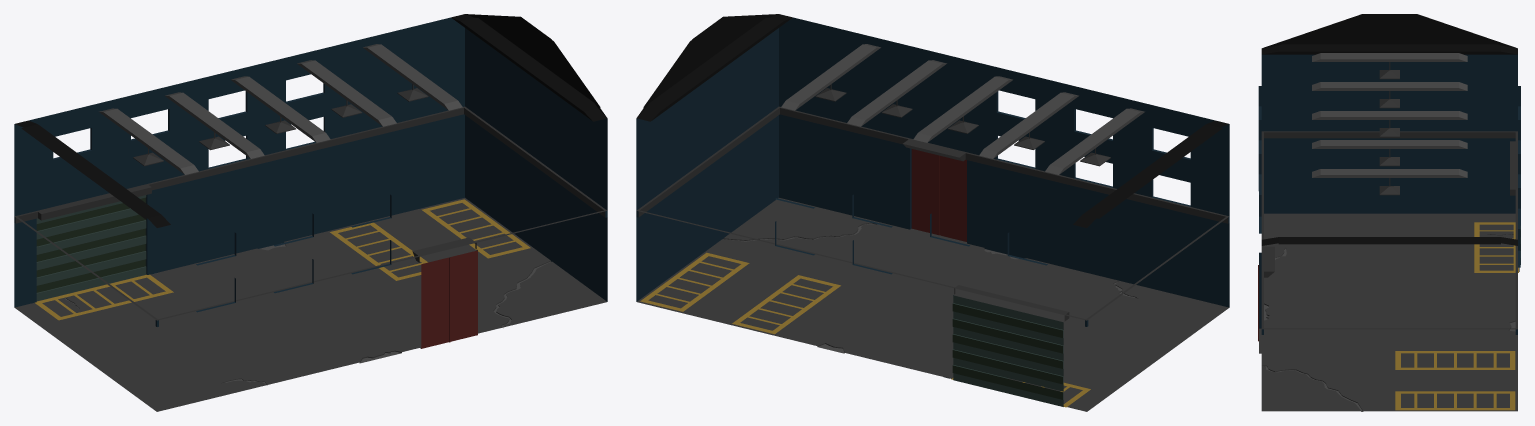
Rendered from Warehouse.fbx.
The picture shows the model from 3 angles, left to right: view 1: azimuth 30°, elevation 25°; view 2: azimuth 150°, elevation 25°; view 3: azimuth 270°, elevation 25°; orthographic projection. The views are drawn at different scales.
Parts seen in each view (by area): view 1: MainStructure, Rafter_3, Rafter_4, Rafter_5, Rafter_1, Rafter_2, Plane, Plane.001, Plane.002; view 2: MainStructure, Rafter_3, Rafter_4, Rafter_5, Rafter_1, Rafter_2, Plane.001, Plane.002; view 3: MainStructure, Rafter_1, Rafter_4, Rafter_2, Rafter_3, Rafter_5, Plane.001, Plane.002, Plane.
Part boxes in pixels (<box>): MainStructure: <box>14,14,607,411</box>; Rafter_3: <box>165,92,264,158</box>; Rafter_4: <box>231,76,330,142</box>; Rafter_5: <box>99,108,198,174</box>; Rafter_1: <box>363,44,462,110</box>; Rafter_2: <box>297,60,396,126</box>; Plane: <box>35,274,173,320</box>; Plane.001: <box>421,199,530,258</box>; Plane.002: <box>330,222,427,280</box>; MainStructure: <box>636,14,1229,411</box>; Rafter_3: <box>979,92,1078,158</box>; Rafter_4: <box>913,76,1012,142</box>; Rafter_5: <box>1045,108,1144,174</box>; Rafter_1: <box>781,44,880,110</box>; Rafter_2: <box>847,60,946,126</box>; Plane.001: <box>640,252,749,311</box>; Plane.002: <box>732,275,840,334</box>; MainStructure: <box>1258,14,1520,411</box>; Rafter_1: <box>1312,169,1467,177</box>; Rafter_4: <box>1312,111,1467,119</box>; Rafter_2: <box>1312,140,1467,148</box>; Rafter_3: <box>1312,82,1467,90</box>; Rafter_5: <box>1312,53,1467,61</box>; Plane.001: <box>1395,391,1515,410</box>; Plane.002: <box>1395,351,1515,369</box>; Plane: <box>1474,222,1518,272</box>.
Bounding box in the file's own units: 3212 × 1501 × 1784.
